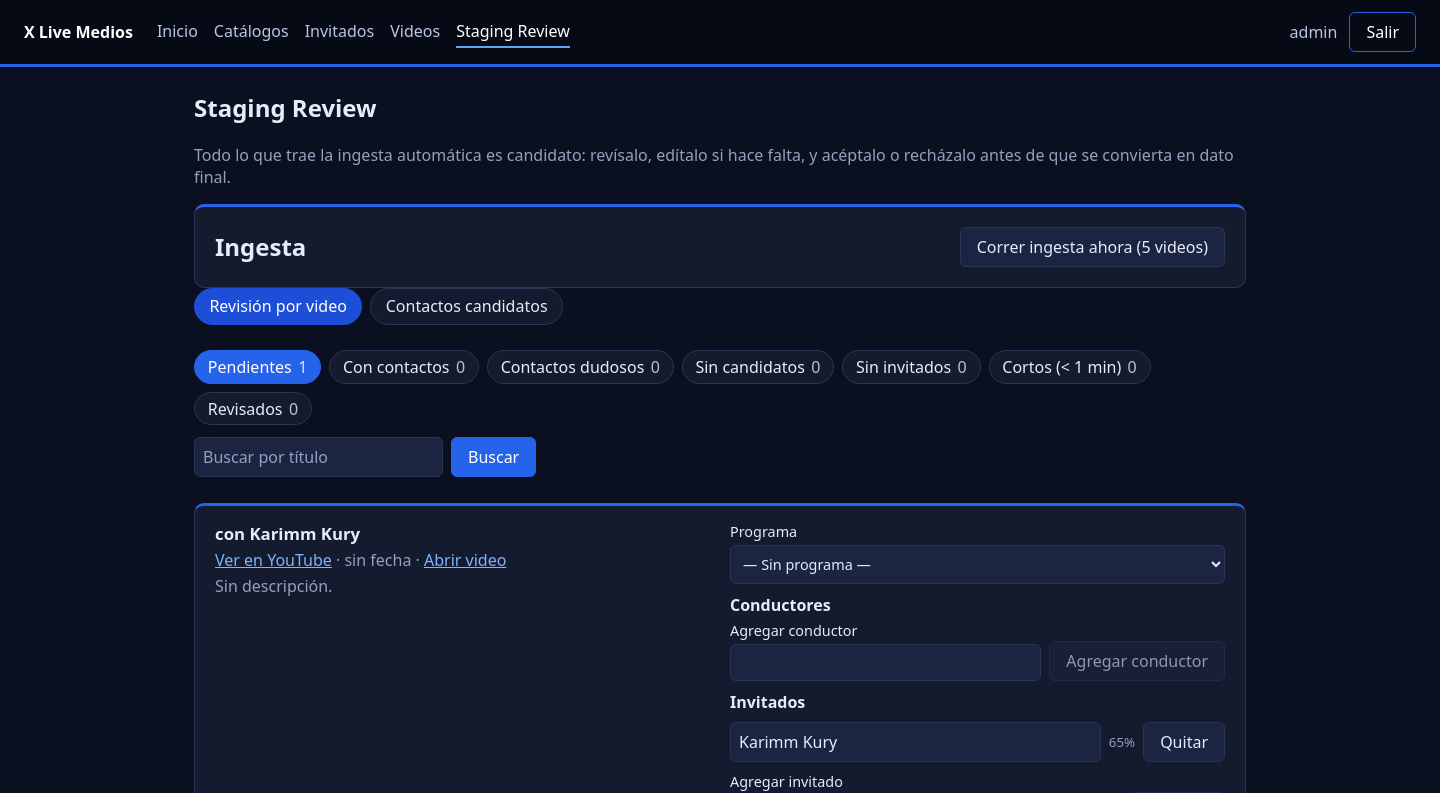
Scenario: Revisión por video › restaura un candidato que se quitó por error
Click the button with aria-label "Quitar Karimm Kury": (1184, 742) [1143,722,1225,762]
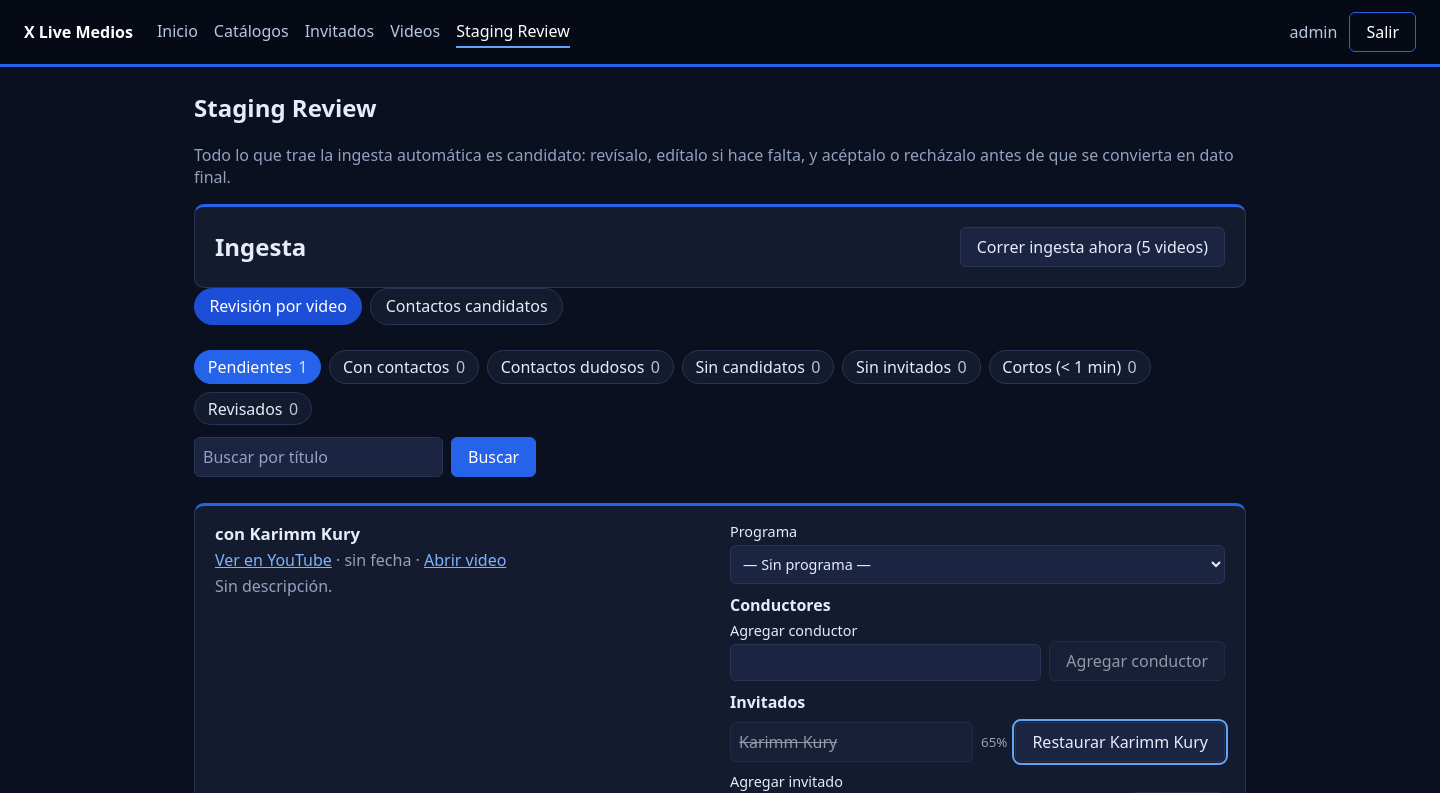
Click the button "Restaurar Karimm Kury": (1120, 742) [1015,722,1225,762]
(page scrolled)
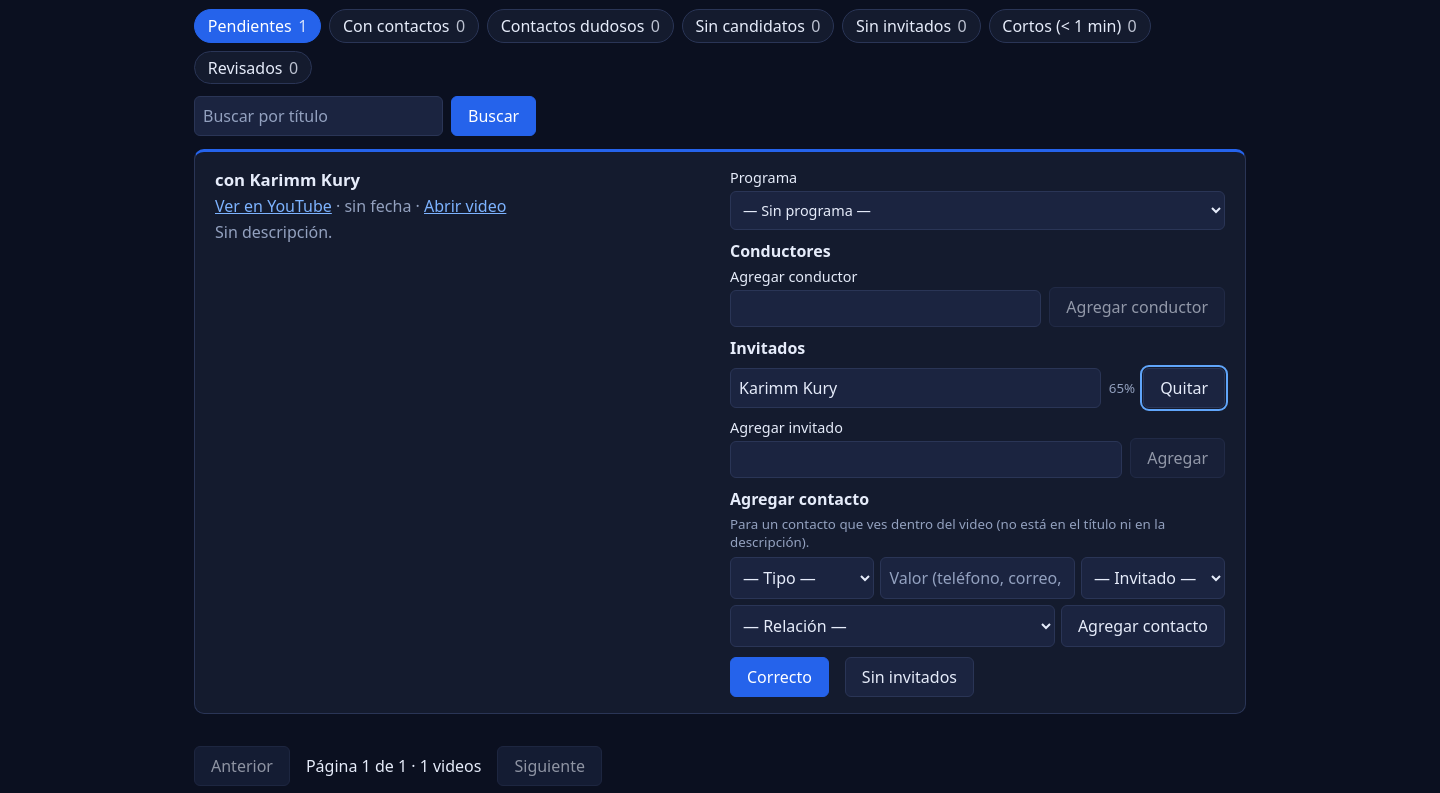
Result: the button "Correcto" is shown at [730,657,829,697]
